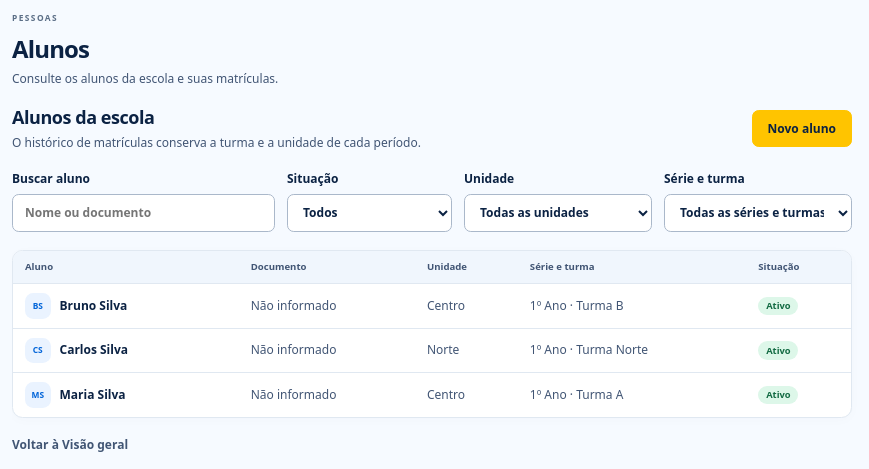
Test case: Cadastro de alunos › filtra alunos por unidade e por série e turma da matrícula vigente
Expected: the number of rows is 4, [13, 251, 851, 284]; [13, 284, 851, 328]; [13, 328, 851, 372]; [13, 372, 851, 416]
Select "Centro" in the dropdown labelled "Unidade" at (558, 213), box [464, 194, 652, 232]
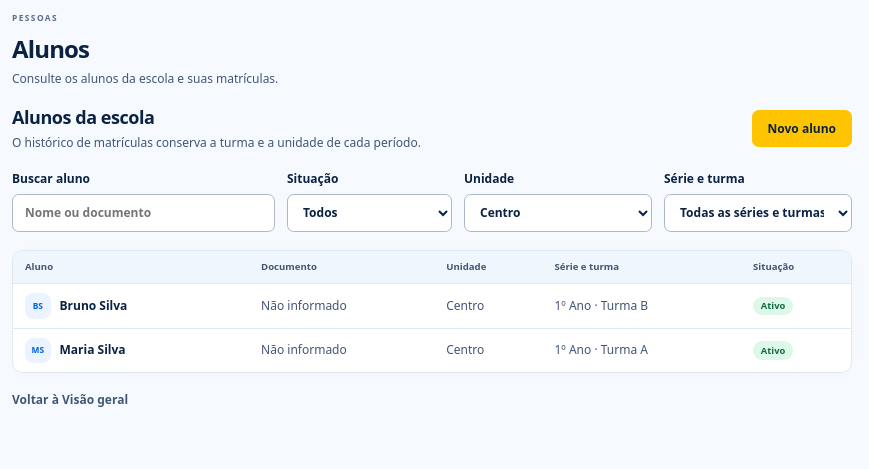
Result: the link "Carlos Silva" is gone
Result: the cell "Turma Norte" is gone
Select "1º Ano · Turma A · Centro · 2026" in the dropdown labelled "Série e turma" at (758, 213), box [664, 194, 852, 232]
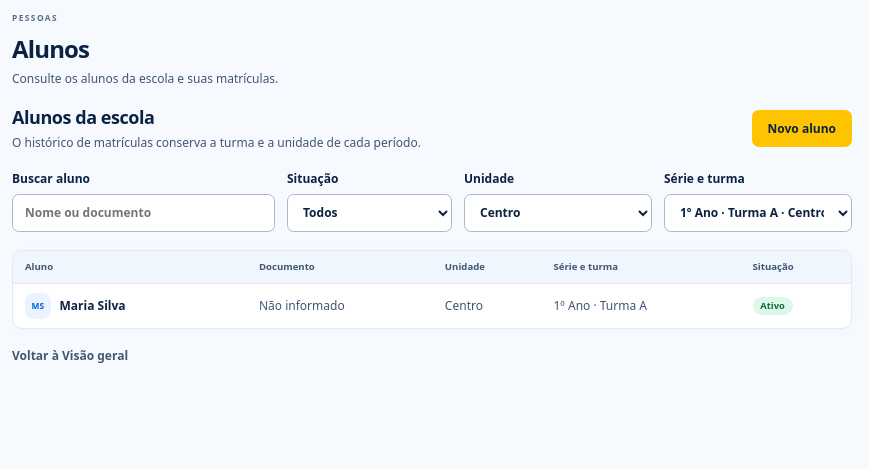
Expected: the link "Maria Silva" is shown, [60, 297, 126, 314]
Result: the link "Bruno Silva" is gone
Select "Norte" in the dropdown labelled "Unidade" at (558, 213), box [464, 194, 652, 232]
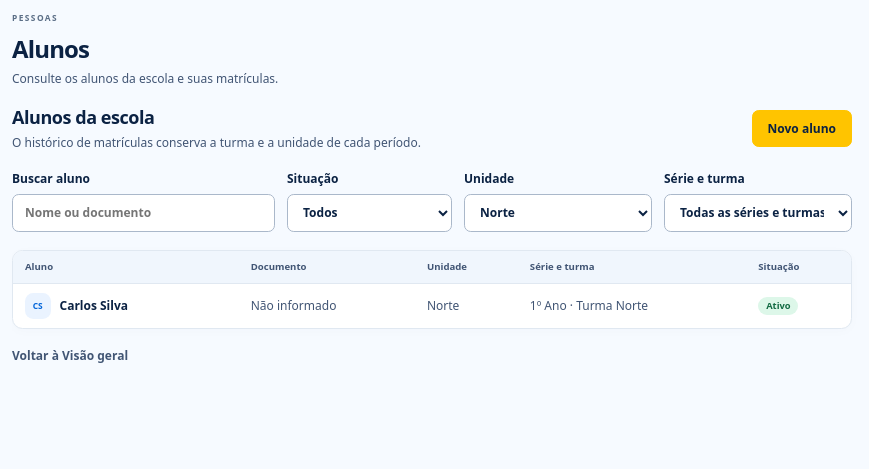
Result: the link "Carlos Silva" is shown at [60, 297, 128, 314]
